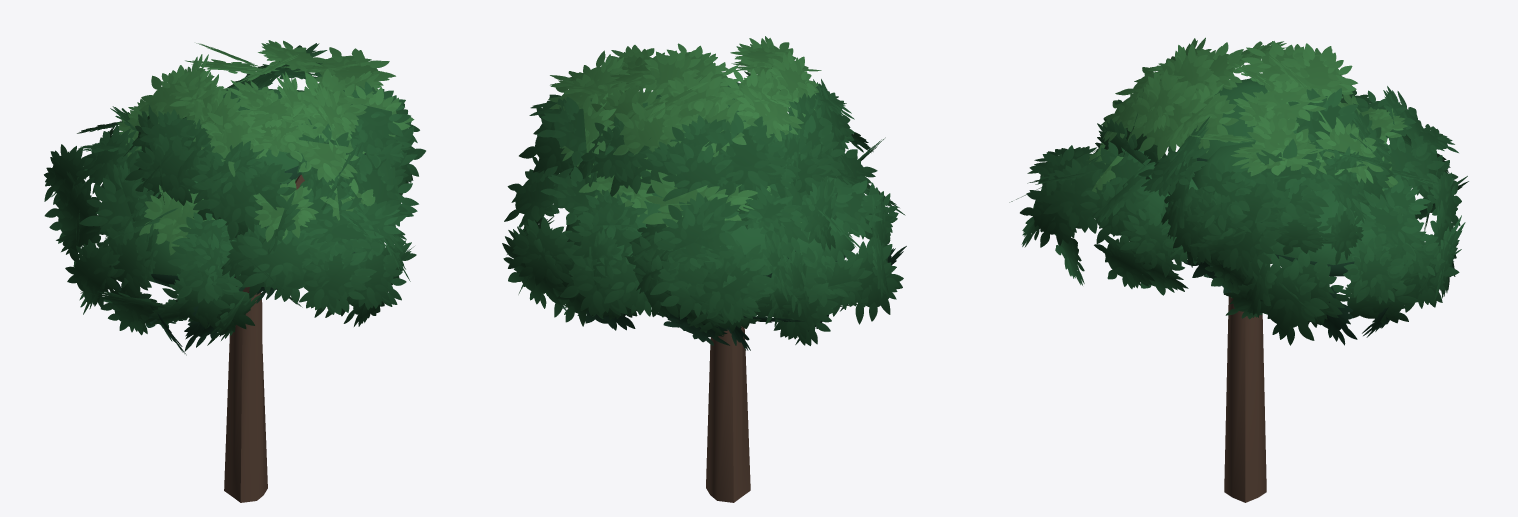
File: tree_round_a.glb
3 renders of one model, left to right at view 1: azimuth 30°, elevation 25°; view 2: azimuth 150°, elevation 25°; view 3: azimuth 270°, elevation 25°, orthographic. The views are drawn at different scales.
Parts seen in each view (by area): view 1: body; view 2: body; view 3: body.
Boxes of the visible parts, box(x1,y1,x2,y2) form: body: box(44, 40, 425, 502); body: box(502, 36, 906, 502); body: box(1009, 37, 1468, 502).
Size of the model in its own units: 4.88 by 5.5 by 5.51.
Materials: 2 (1 with a texture image).
